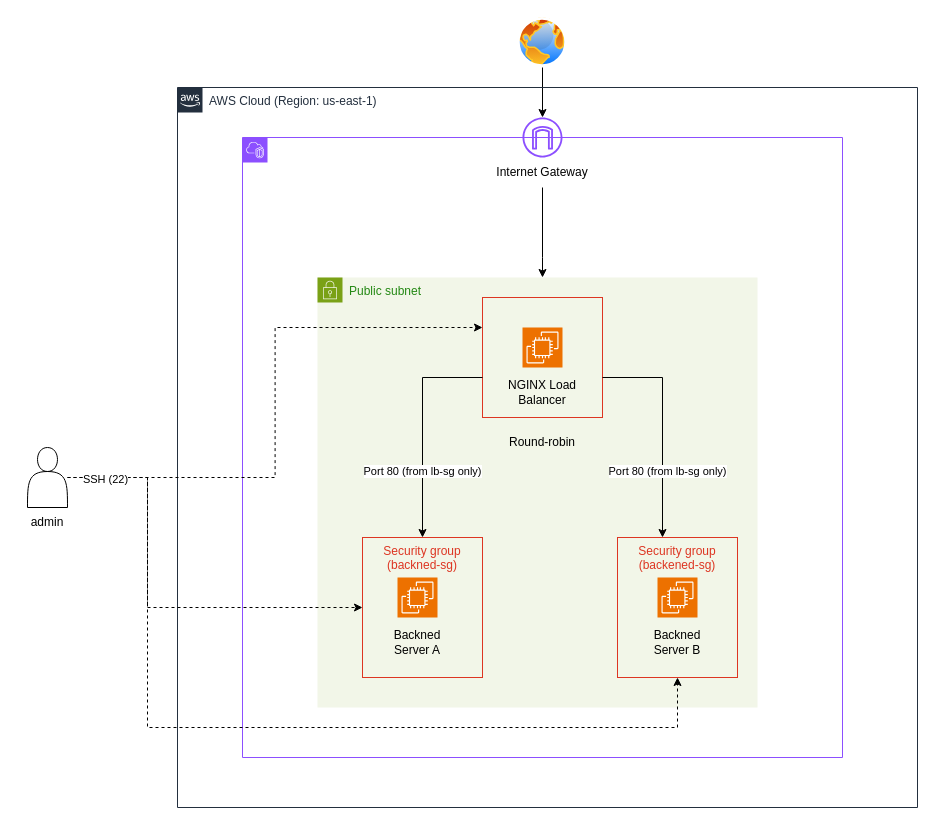
The diagram is 935 pixels wide and 825 high, and some of its shapes have lost their labels. The box of each missing label's shape, as (x1, y1, x2, y2) in pixels:
Security group (lb-sg): (482, 296, 602, 418)
VPC: (242, 136, 842, 758)
